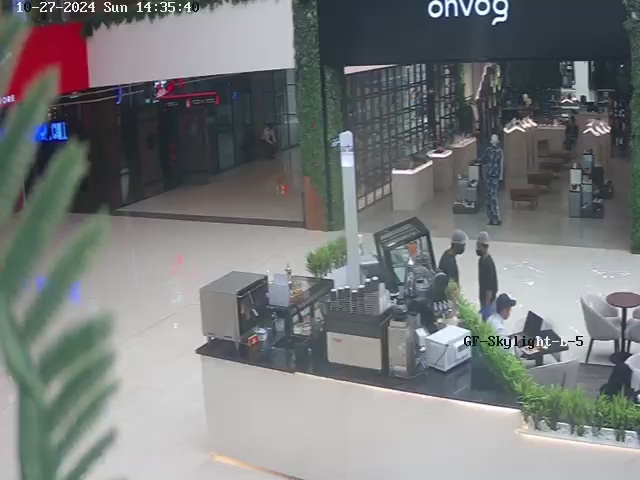male: (475, 231, 498, 322), (487, 293, 519, 358), (438, 230, 468, 288), (561, 116, 582, 155)
other: (475, 133, 504, 226)
